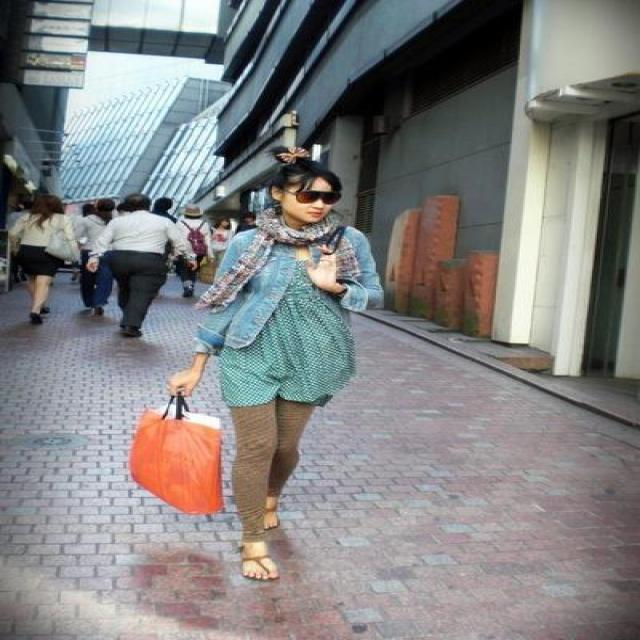bag: (130, 392, 222, 513)
jacket: (205, 248, 382, 344)
pants: (226, 397, 312, 542)
shirt: (197, 271, 355, 410)
shoe: (243, 542, 275, 575)
